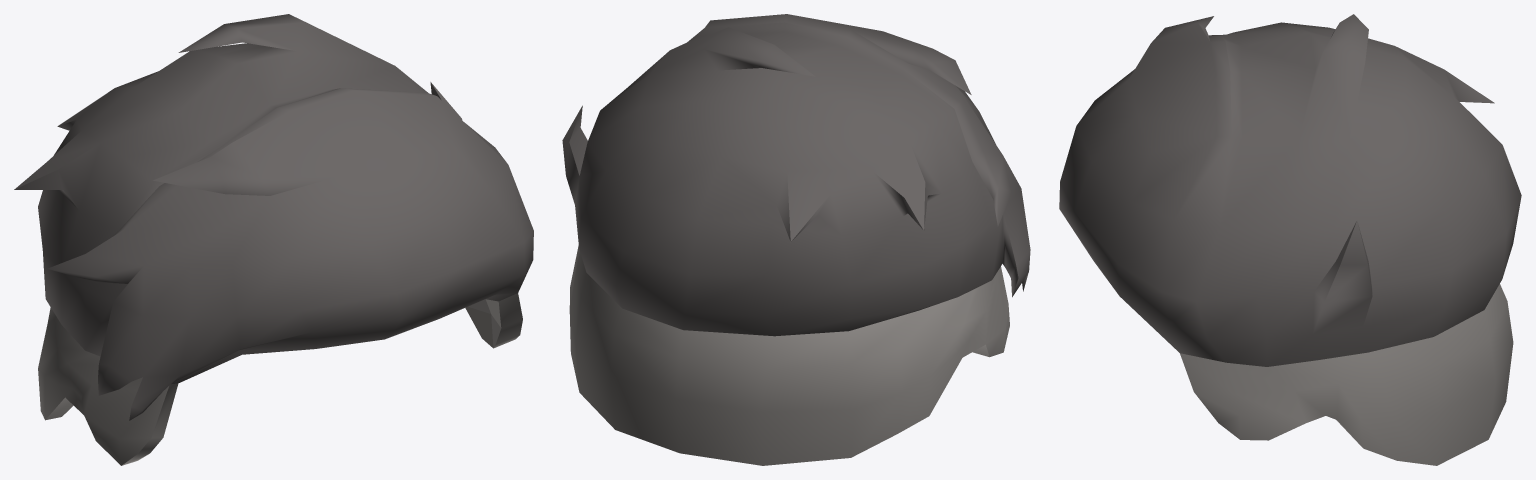
File: Hair_12_04.fbx
The picture shows the model from 3 angles, left to right: view 1: azimuth 30°, elevation 25°; view 2: azimuth 150°, elevation 25°; view 3: azimuth 270°, elevation 25°; orthographic projection. The views are drawn at different scales.
Visible parts, largest first — view 1: Hair_12_04; view 2: Hair_12_04; view 3: Hair_12_04.
Boxes of the visible parts, x1,y1,x2,y2 form: Hair_12_04: [14, 14, 533, 465]; Hair_12_04: [562, 14, 1030, 465]; Hair_12_04: [1059, 14, 1521, 465].
Size of the model in its own units: 40.83 by 34.03 by 38.32.
